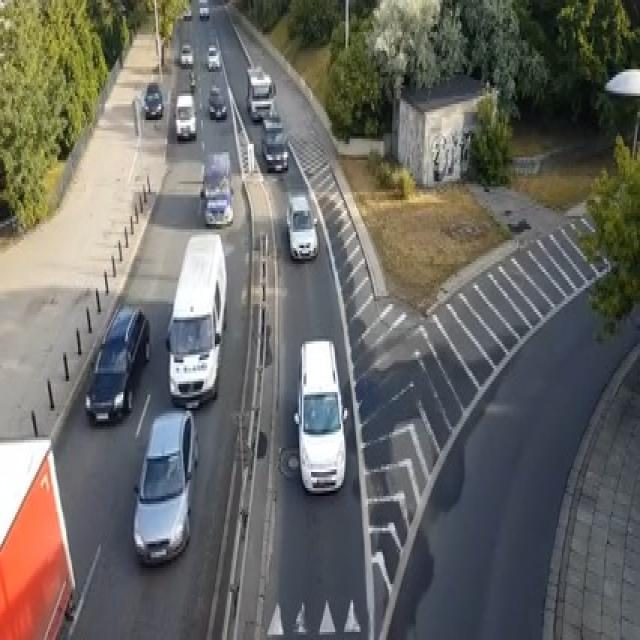bus: (0, 435, 77, 637), (165, 229, 227, 408)
car: (132, 408, 198, 565), (293, 336, 347, 493), (84, 304, 150, 424), (200, 149, 233, 227), (286, 192, 318, 259), (245, 64, 275, 120), (262, 128, 288, 171), (174, 90, 196, 138), (141, 80, 164, 117), (207, 83, 227, 120), (206, 43, 221, 69), (179, 42, 194, 66), (198, 0, 209, 19), (188, 69, 195, 91), (182, 5, 192, 19)
